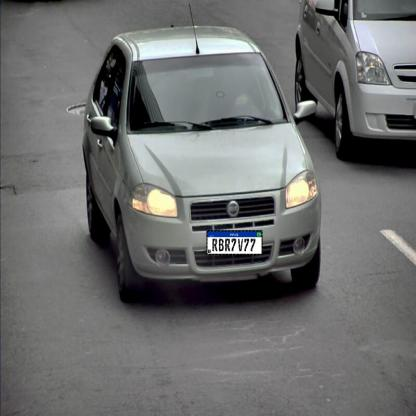PlacaM: (207, 230, 262, 255)
